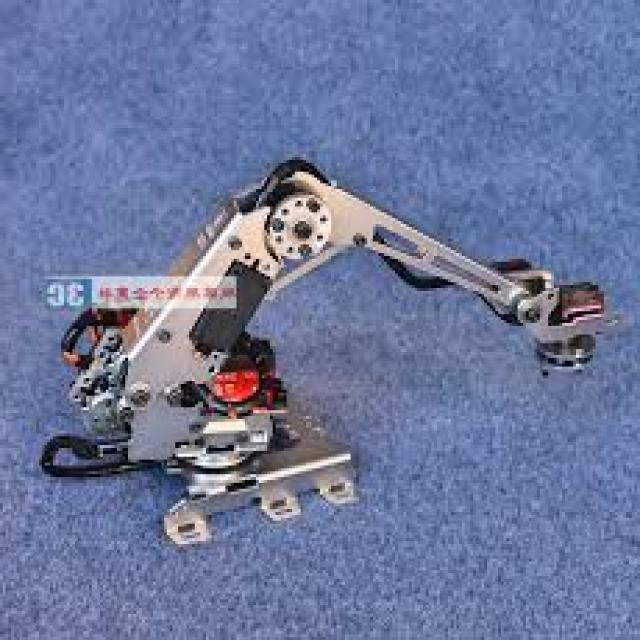Robotic-arm: (32, 155, 618, 546)
